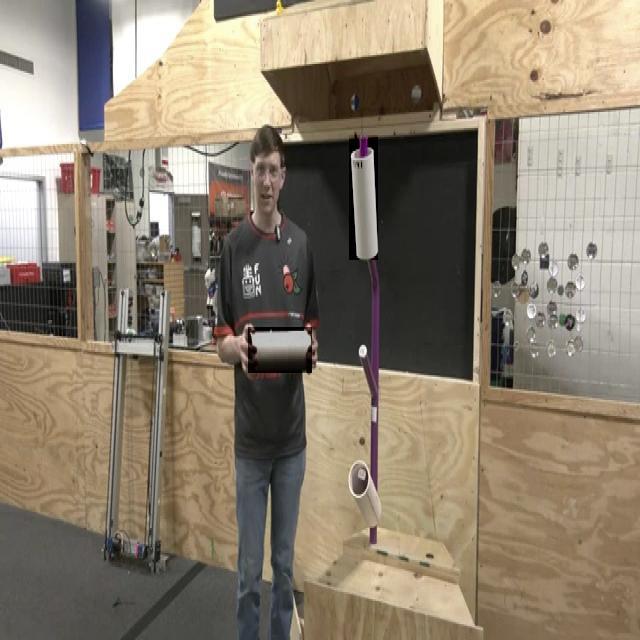Coral: (349, 135, 378, 260), (248, 327, 312, 373), (348, 460, 381, 528)
